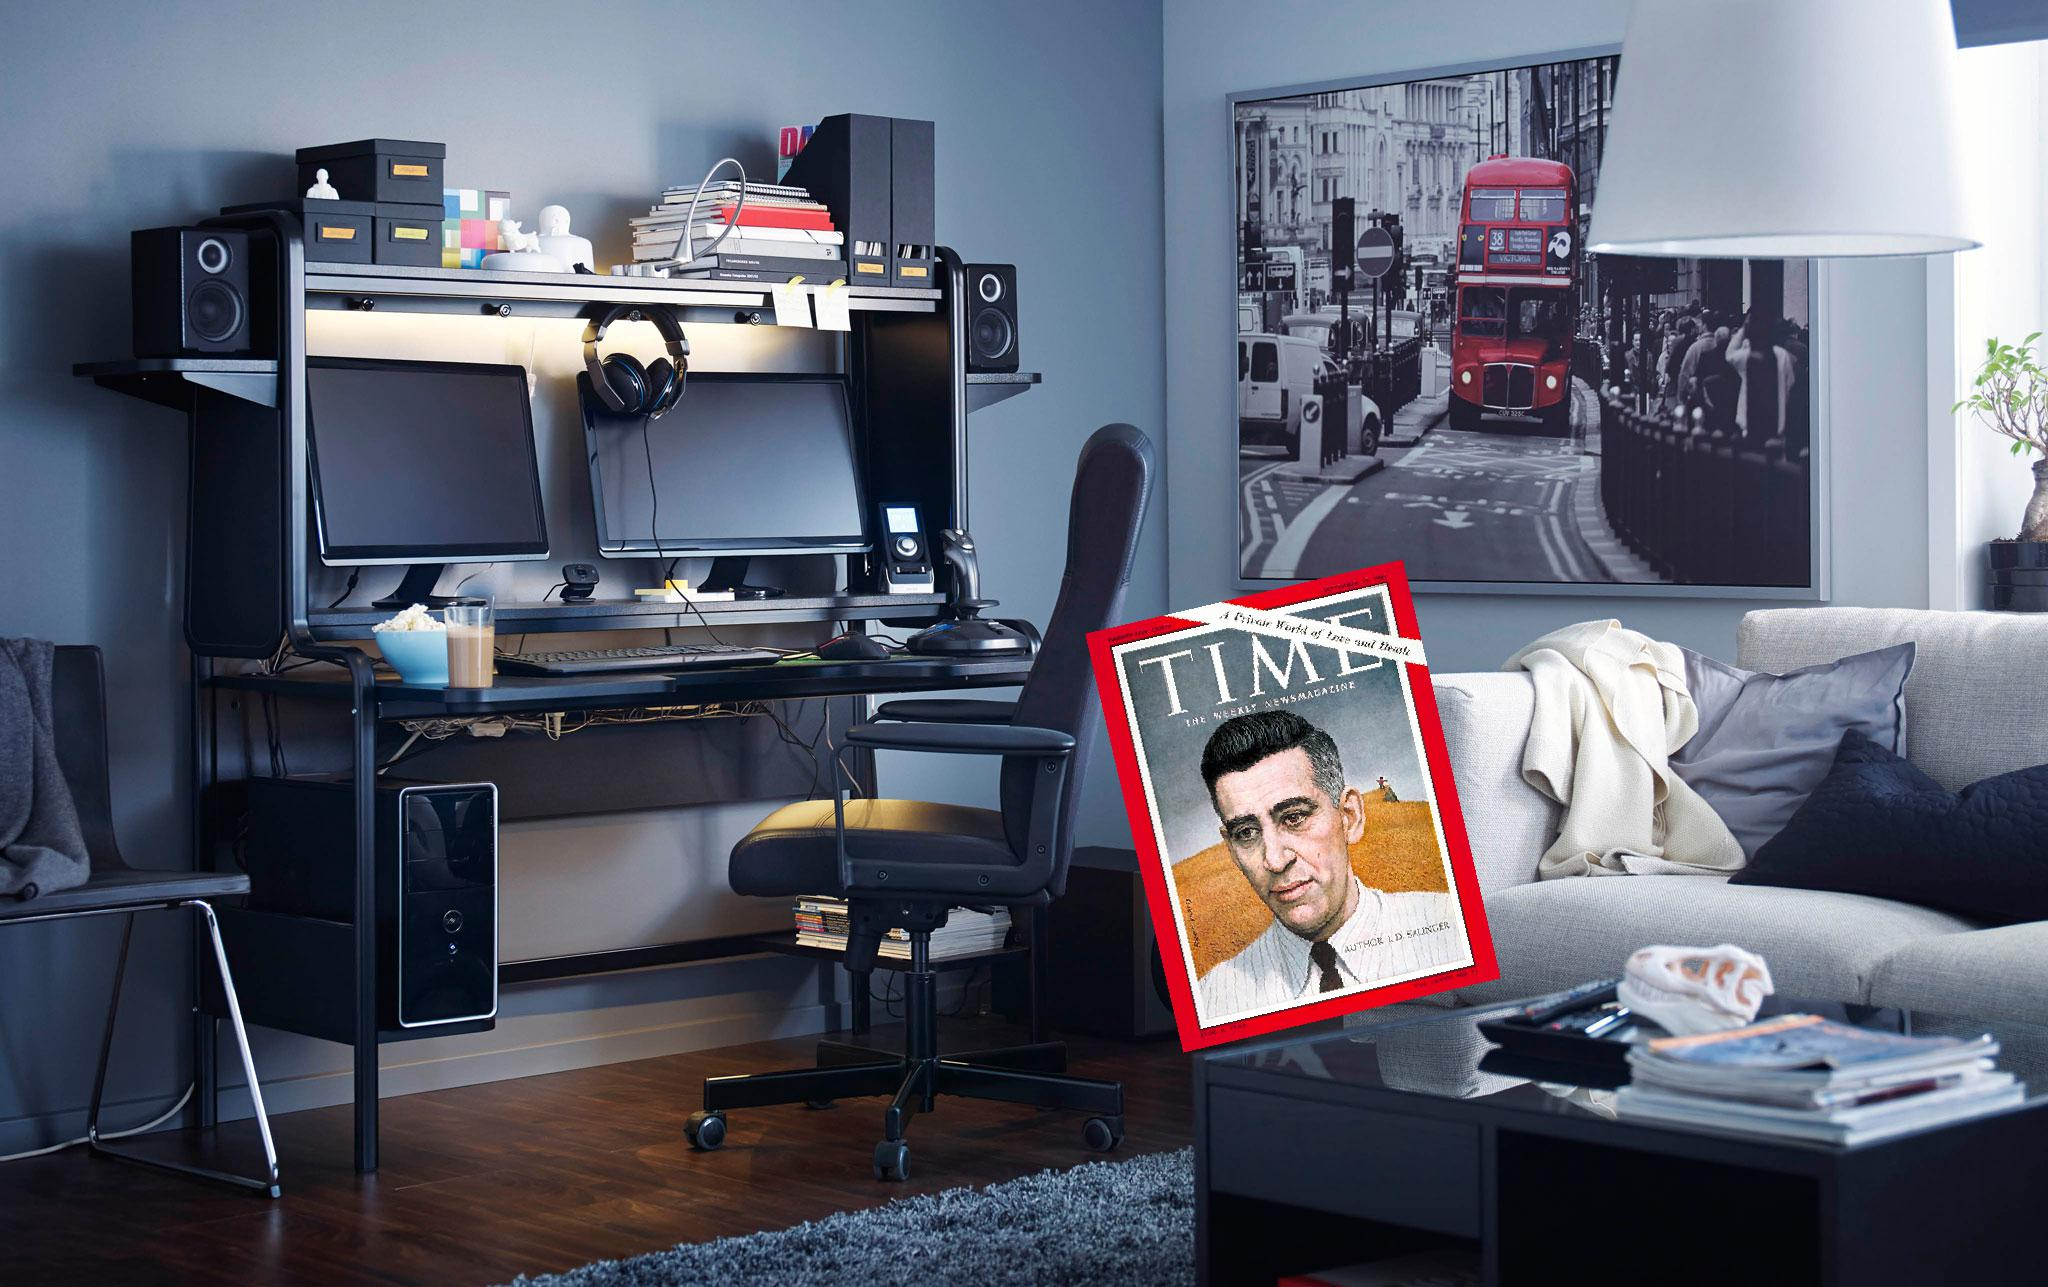times: (1088, 549, 1500, 1056)
